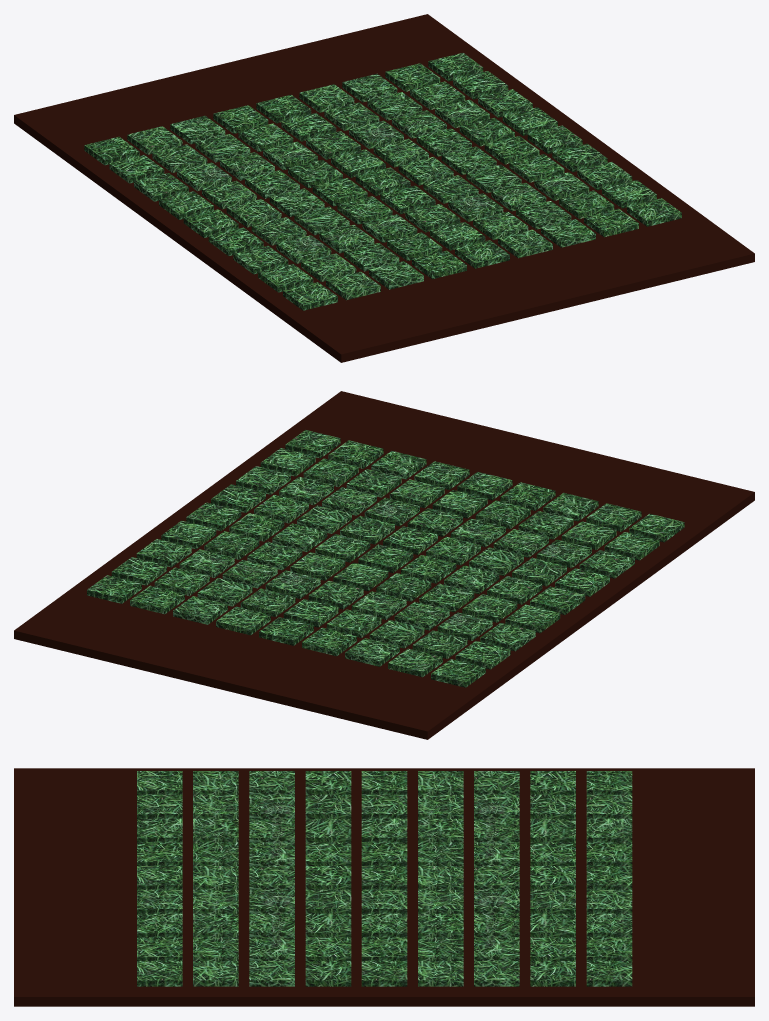
File: board.obj
3 views of the same model, one above another, from view 1: azimuth 30°, elevation 25°; view 2: azimuth 150°, elevation 25°; view 3: azimuth 270°, elevation 25° (orthographic). The views are drawn at different scales.
Visible parts, largest first — view 1: Untitled_ID1303, Mesh.160_ID1287, Mesh.142_ID1143, Mesh.124_ID999, Mesh.106_ID855, Mesh.073_ID591, Mesh.054_ID439, Mesh.016_ID135, Mesh.052_ID423, Mesh.018_ID151, Mesh.140_ID1127, Mesh.119_ID959 (+70 smaller); view 2: Untitled_ID1303, Mesh.144_ID1159, Mesh.072_ID583, Mesh_ID2, Mesh.108_ID871, Mesh.071_ID575, Mesh.037_ID303, Mesh.126_ID1015, Mesh.090_ID727, Mesh.030_ID247, Mesh.099_ID799, Mesh.091_ID735 (+70 smaller); view 3: Untitled_ID1303, Mesh.155_ID1247, Mesh.153_ID1231, Mesh.144_ID1159, Mesh.160_ID1287, Mesh.158_ID1271, Mesh.156_ID1255, Mesh.151_ID1215, Mesh.148_ID1191, Mesh.145_ID1167, Mesh.101_ID815, Mesh.099_ID799 (+70 smaller).
Part boxes in pixels (x1,y1,x2,y2): Untitled_ID1303: [14, 14, 754, 362]; Mesh.160_ID1287: [627, 198, 681, 226]; Mesh.142_ID1143: [584, 208, 638, 237]; Mesh.124_ID999: [541, 219, 595, 247]; Mesh.106_ID855: [498, 229, 552, 258]; Mesh.073_ID591: [455, 240, 509, 268]; Mesh.054_ID439: [412, 250, 466, 279]; Mesh.016_ID135: [283, 282, 337, 310]; Mesh.052_ID423: [369, 261, 423, 289]; Mesh.018_ID151: [326, 271, 380, 300]; Mesh.140_ID1127: [559, 190, 614, 219]; Mesh.119_ID959: [466, 164, 521, 193]; Untitled_ID1303: [14, 391, 754, 739]; Mesh.144_ID1159: [87, 575, 141, 603]; Mesh.072_ID583: [259, 617, 313, 645]; Mesh_ID2: [431, 659, 485, 687]; Mesh.108_ID871: [173, 596, 227, 624]; Mesh.071_ID575: [302, 627, 356, 656]; Mesh.037_ID303: [345, 638, 399, 666]; Mesh.126_ID1015: [130, 585, 184, 614]; Mesh.090_ID727: [216, 606, 270, 635]; Mesh.030_ID247: [388, 648, 442, 677]; Mesh.099_ID799: [315, 534, 370, 562]; Mesh.091_ID735: [265, 570, 320, 598]; Untitled_ID1303: [14, 768, 754, 1006]; Mesh.155_ID1247: [305, 961, 351, 986]; Mesh.153_ID1231: [361, 961, 407, 986]; Mesh.144_ID1159: [586, 961, 632, 986]; Mesh.160_ID1287: [137, 961, 182, 986]; Mesh.158_ID1271: [193, 961, 238, 986]; Mesh.156_ID1255: [249, 961, 294, 986]; Mesh.151_ID1215: [418, 961, 463, 986]; Mesh.148_ID1191: [530, 961, 575, 986]; Mesh.145_ID1167: [474, 961, 519, 986]; Mesh.101_ID815: [305, 889, 351, 913]; Mesh.099_ID799: [361, 889, 407, 913].
Size of the model in its own units: 60.63 by 1.97 by 83.05.
